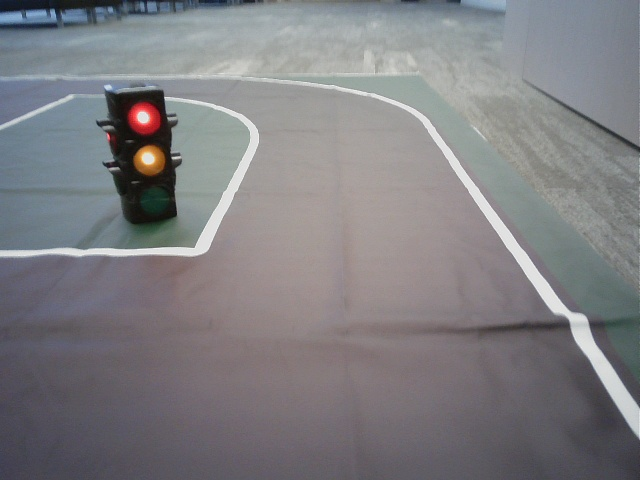red: (117, 94, 174, 220)
